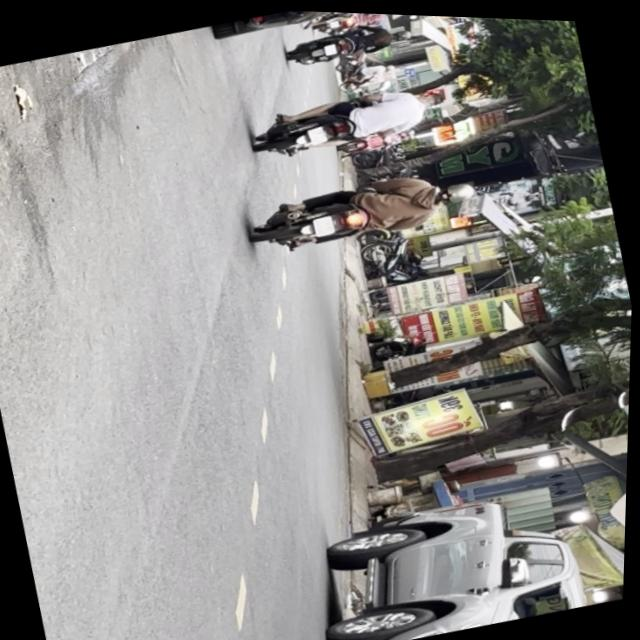helmet: (435, 175, 478, 204)
licenseplate: (244, 151, 484, 265)
nohelmet: (313, 211, 337, 234)
